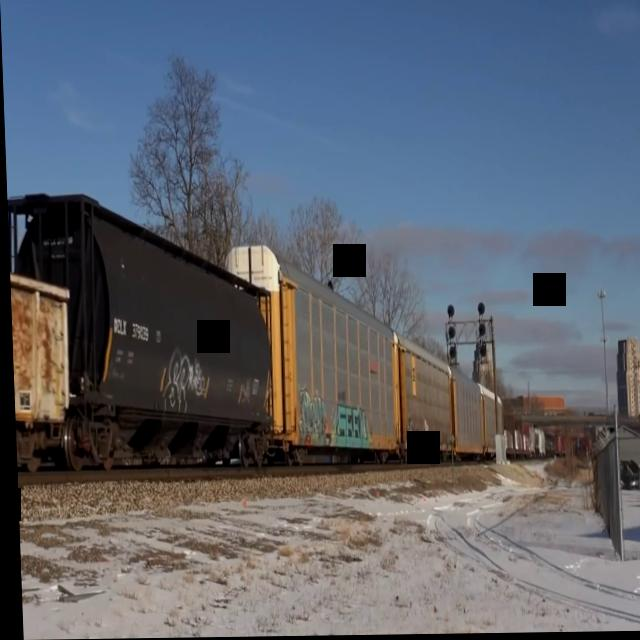autorack: (221, 241, 400, 471), (395, 330, 452, 467), (449, 365, 481, 465)
gondola: (7, 251, 75, 475)
tank: (5, 179, 280, 482)
